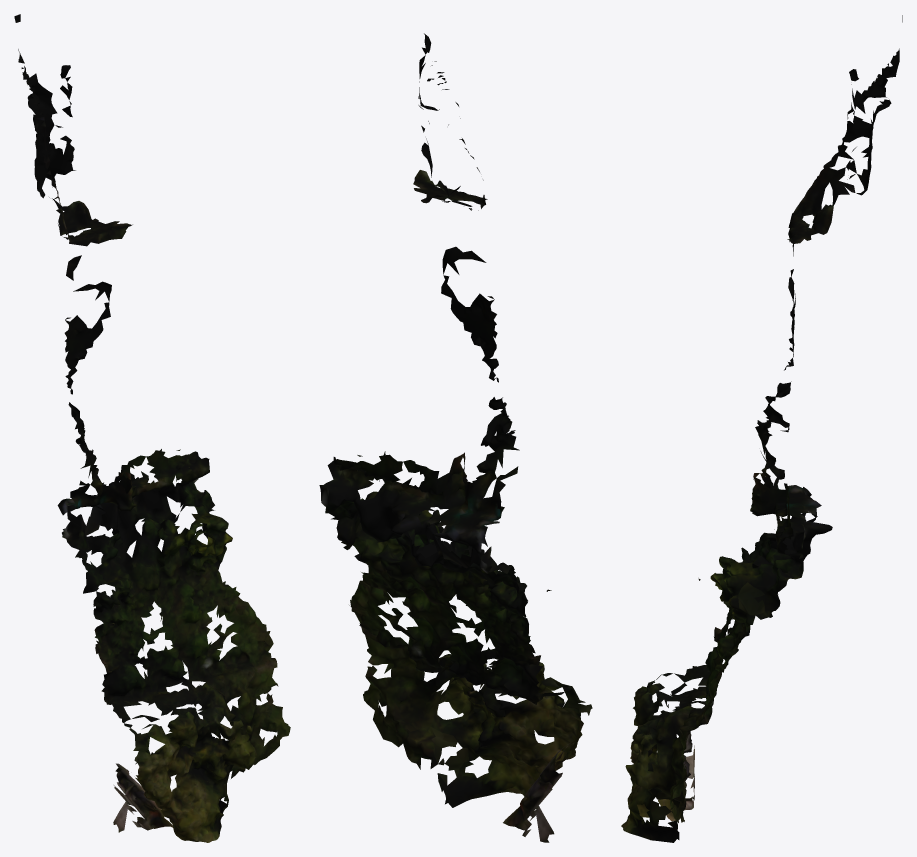
3 views of the same model, side by side, from view 1: azimuth 30°, elevation 25°; view 2: azimuth 150°, elevation 25°; view 3: azimuth 270°, elevation 25° (orthographic). The views are drawn at different scales.
Size of the model in its own units: 10.65 by 44.27 by 14.43.
1 material, 1 textured.
